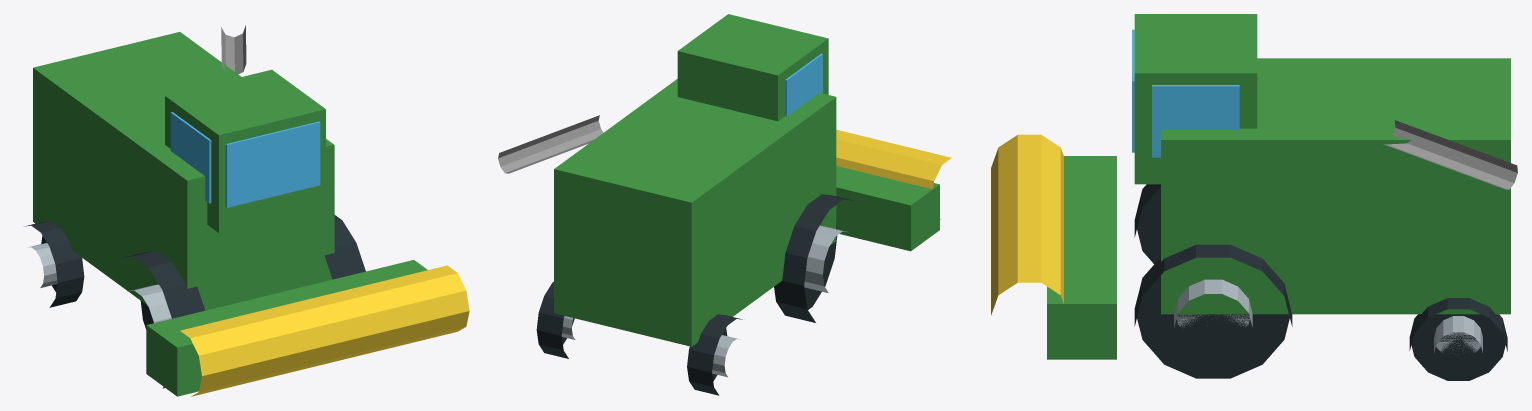
Rendered from skordetroska.glb.
3 views of the same model, side by side, from view 1: azimuth 30°, elevation 25°; view 2: azimuth 150°, elevation 25°; view 3: azimuth 270°, elevation 25° (orthographic). The views are drawn at different scales.
Visible parts, largest first — view 1: skordetroska; view 2: skordetroska; view 3: skordetroska.
Boxes of the visible parts, x1,y1,x2,y2 form: skordetroska: (24,25,469,396); skordetroska: (498,14,951,395); skordetroska: (991,14,1517,380).
Size of the model in its own units: 2.02 by 1.89 by 3.01.
